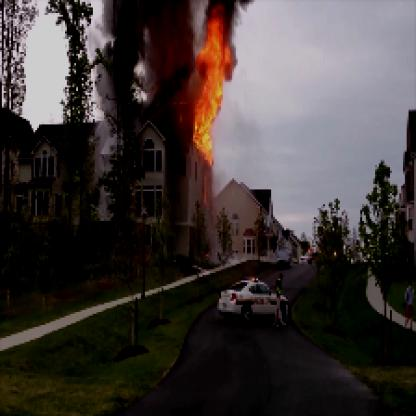Fire: (188, 26, 230, 165)
Smoke: (112, 2, 188, 115)
